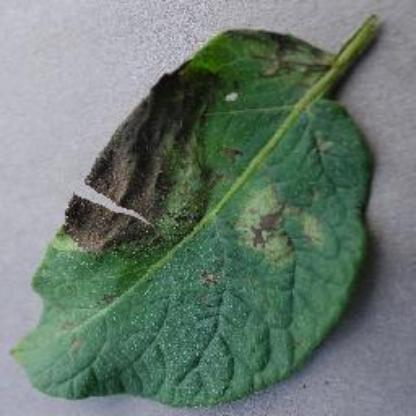Late-Blight: (9, 12, 401, 404)
